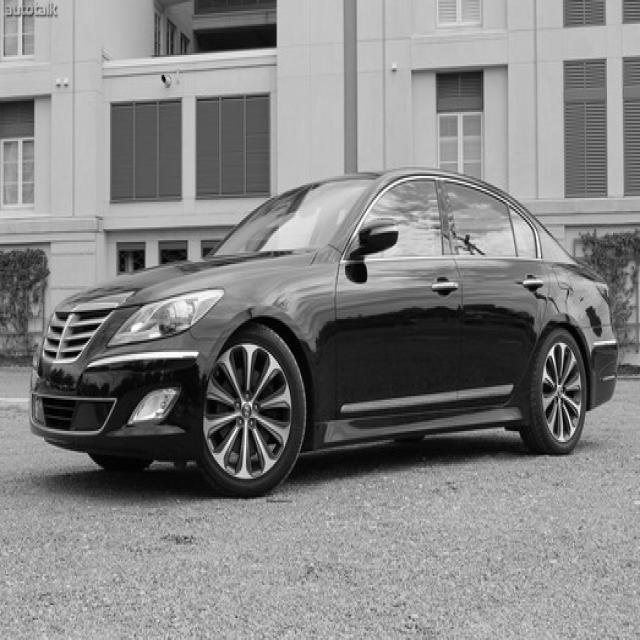car: (28, 167, 618, 497)
